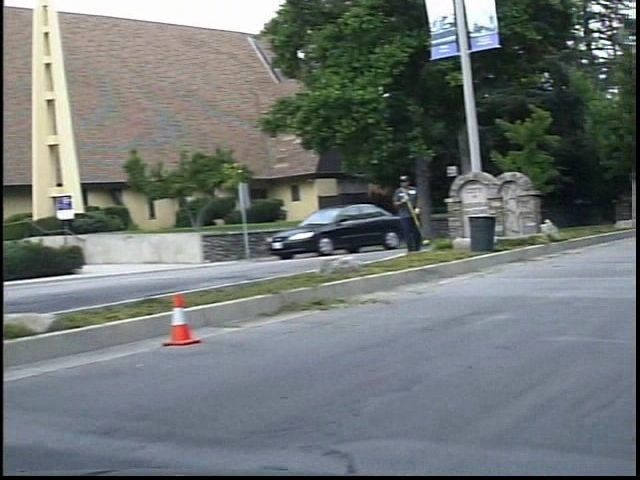person: (402, 174, 439, 260)
